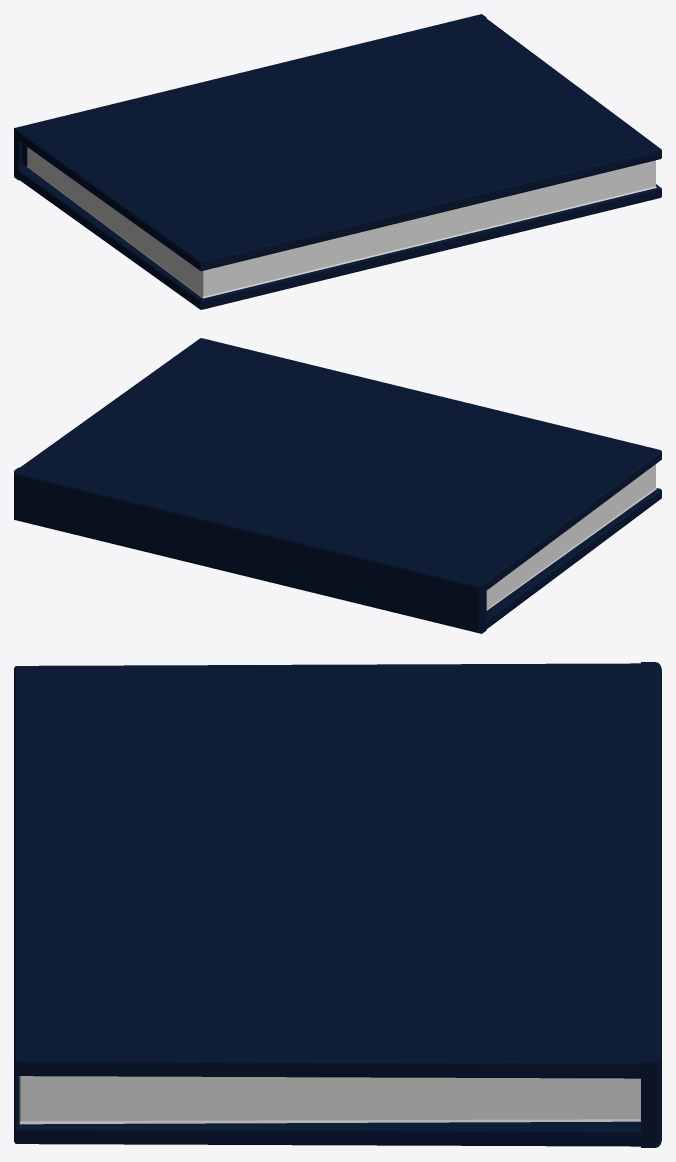
The model's file is livre.fbx.
The picture shows the model from 3 angles, top to bottom: view 1: azimuth 30°, elevation 25°; view 2: azimuth 150°, elevation 25°; view 3: azimuth 270°, elevation 25°; orthographic projection. The views are drawn at different scales.
Parts seen in each view (by area): view 1: Couverture, Pages; view 2: Couverture, Pages; view 3: Couverture, Pages.
Boxes of the visible parts, x1,y1,x2,y2 form: Couverture: [14, 14, 661, 309]; Pages: [26, 147, 656, 298]; Couverture: [14, 338, 661, 633]; Pages: [486, 464, 656, 610]; Couverture: [14, 662, 661, 1147]; Pages: [19, 1076, 640, 1124].
Bounding box in the file's own units: 307 × 30.62 × 210.
